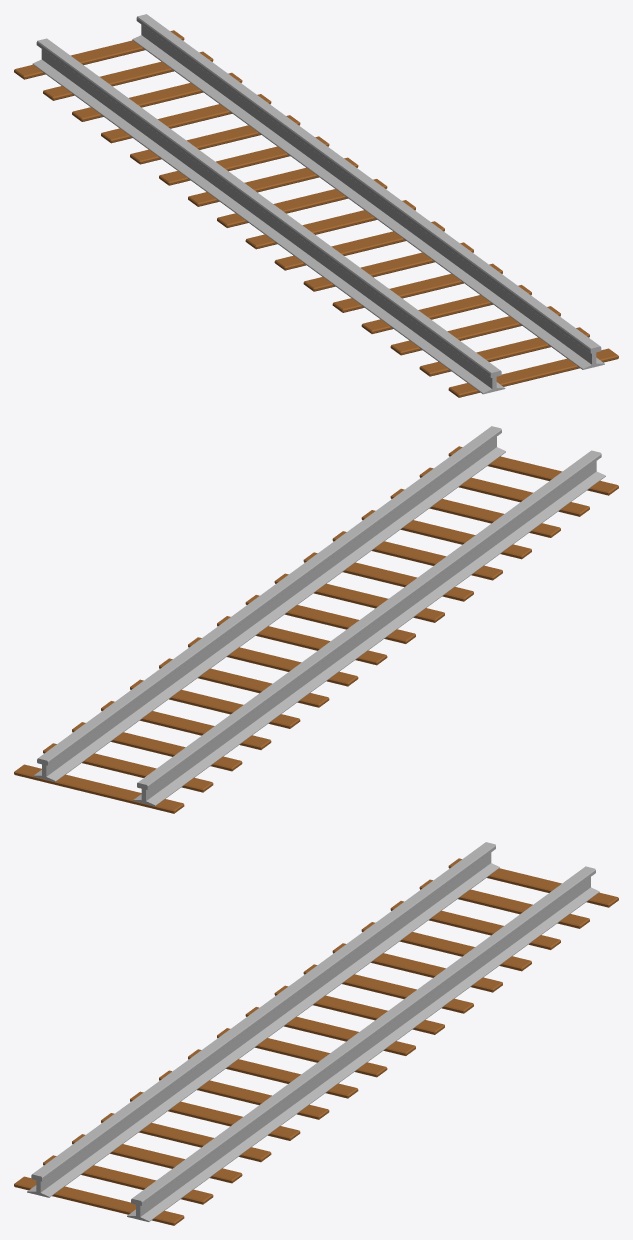
File: railway_track.glb
The picture shows the model from 3 angles, top to bottom: view 1: azimuth 30°, elevation 25°; view 2: azimuth 150°, elevation 25°; view 3: azimuth 330°, elevation 25°; orthographic projection.
Visible parts, largest first — view 1: pasted__pasted__pCube2, pasted__pasted__pCube3, pCube18, pCube16, pCube12, pCube4, pCube8, pCube11, pCube3, pCube6, pCube7, pCube17 (+6 smaller); view 2: pasted__pasted__pCube2, pasted__pasted__pCube3, pCube3, pCube5, pCube9, pCube18, pCube10, pCube13, pCube17, pCube4, pCube12, pCube14 (+6 smaller); view 3: pasted__pasted__pCube2, pasted__pasted__pCube3, pCube18, pCube12, pCube17, pCube6, pCube4, pCube8, pCube16, pCube3, pCube7, pCube11 (+6 smaller).
Boxes of the visible parts, x1,y1,x2,y2 form: pasted__pasted__pCube2: (32,38,505,394); pasted__pasted__pCube3: (132,14,604,369); pCube18: (448,348,618,397); pCube16: (390,306,560,355); pCube12: (274,221,444,270); pCube4: (43,51,213,100); pCube8: (159,136,329,185); pCube11: (245,200,415,249); pCube3: (14,30,184,79); pCube6: (101,94,271,143); pCube7: (130,115,300,164); pCube17: (419,327,589,376); pasted__pasted__pCube2: (133,450,605,806); pasted__pasted__pCube3: (33,426,505,781); pCube3: (14,764,184,813); pCube5: (72,722,242,771); pCube9: (188,637,358,686); pCube18: (448,446,618,495); pCube10: (217,616,387,665); pCube13: (303,552,473,601); pCube17: (419,467,589,516); pCube4: (43,743,213,792); pCube12: (274,573,444,622); pCube14: (332,531,502,580); pasted__pasted__pCube2: (27,842,499,1197); pasted__pasted__pCube3: (127,866,599,1221); pCube18: (14,1176,184,1225); pCube12: (188,1049,358,1098); pCube17: (43,1155,213,1204); pCube6: (361,922,531,971); pCube4: (419,879,589,928); pCube8: (303,964,473,1013); pCube16: (72,1134,242,1183); pCube3: (448,858,618,907); pCube7: (332,943,502,992); pCube11: (217,1028,387,1077).
Size of the model in its own units: 0.9428 by 0.137 by 4.6.
